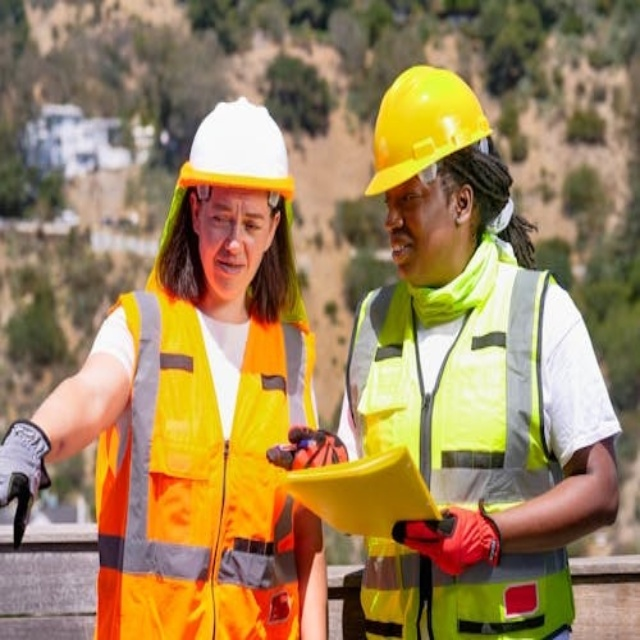Guantes: (397, 503, 501, 577), (0, 419, 53, 548), (269, 426, 349, 472)
Sin_gafas: (200, 200, 274, 241), (381, 186, 425, 210)
Sin_mascara: (387, 234, 422, 270), (210, 253, 248, 285)
